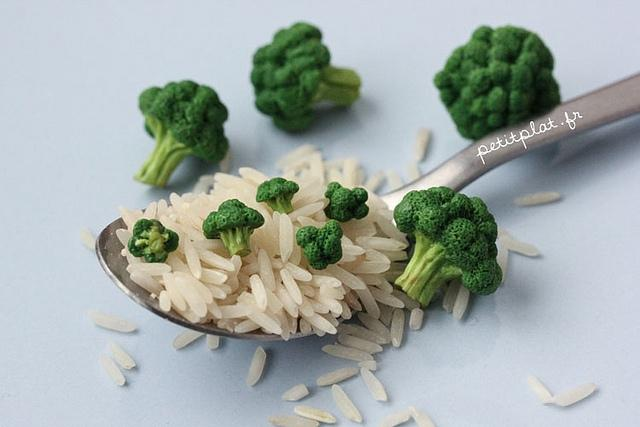broccoli: (433, 24, 563, 142), (393, 186, 503, 308), (250, 22, 362, 133), (133, 80, 230, 188), (202, 199, 266, 257), (296, 219, 344, 270), (128, 218, 180, 263), (324, 181, 369, 222), (256, 178, 300, 214)
